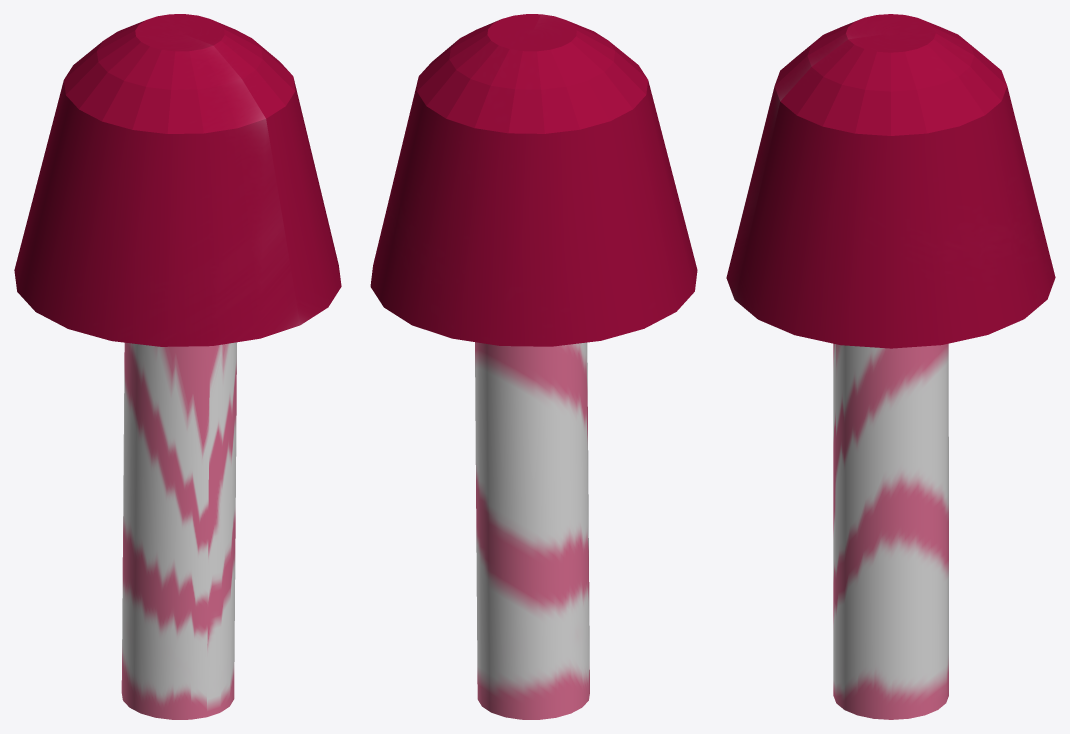
The model's file is candy light road.fbx.
3 views of the same model, side by side, from view 1: azimuth 30°, elevation 25°; view 2: azimuth 150°, elevation 25°; view 3: azimuth 270°, elevation 25° (orthographic).
Visible parts, largest first — view 1: pCylinder3; view 2: pCylinder3; view 3: pCylinder3.
Part boxes in pixels (bbox=[...]): pCylinder3: bbox=[14, 14, 341, 719]; pCylinder3: bbox=[370, 14, 697, 719]; pCylinder3: bbox=[726, 14, 1055, 719].
Size of the model in its own units: 1.58 by 3.51 by 1.58.
1 material, 1 textured.
